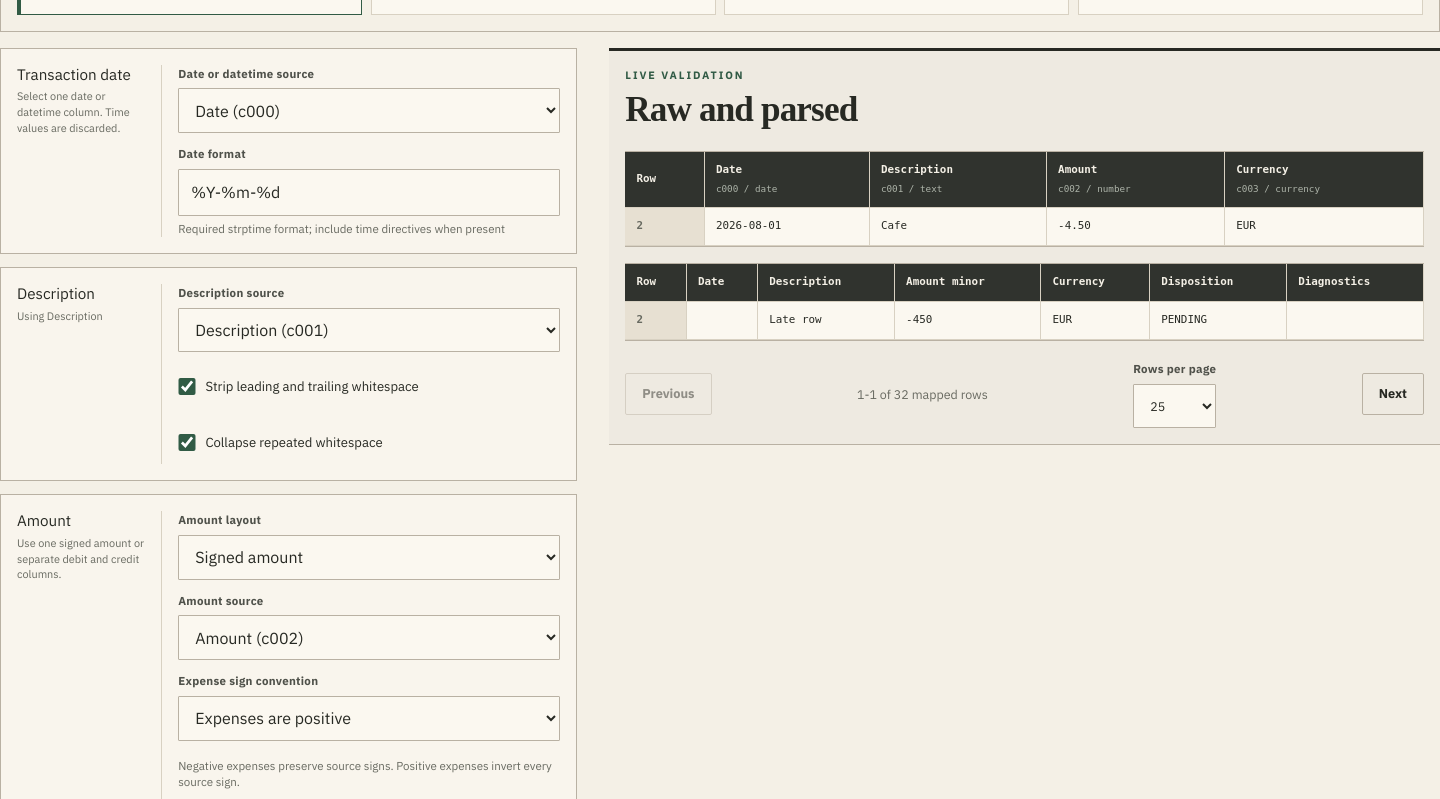
Scenario: ImportWizardPage › pages mapping preview and displays row errors beyond the first 25 rows
(page scrolled)
Click the button "Next".
click(1393, 394)  # box [1362, 373, 1424, 415]
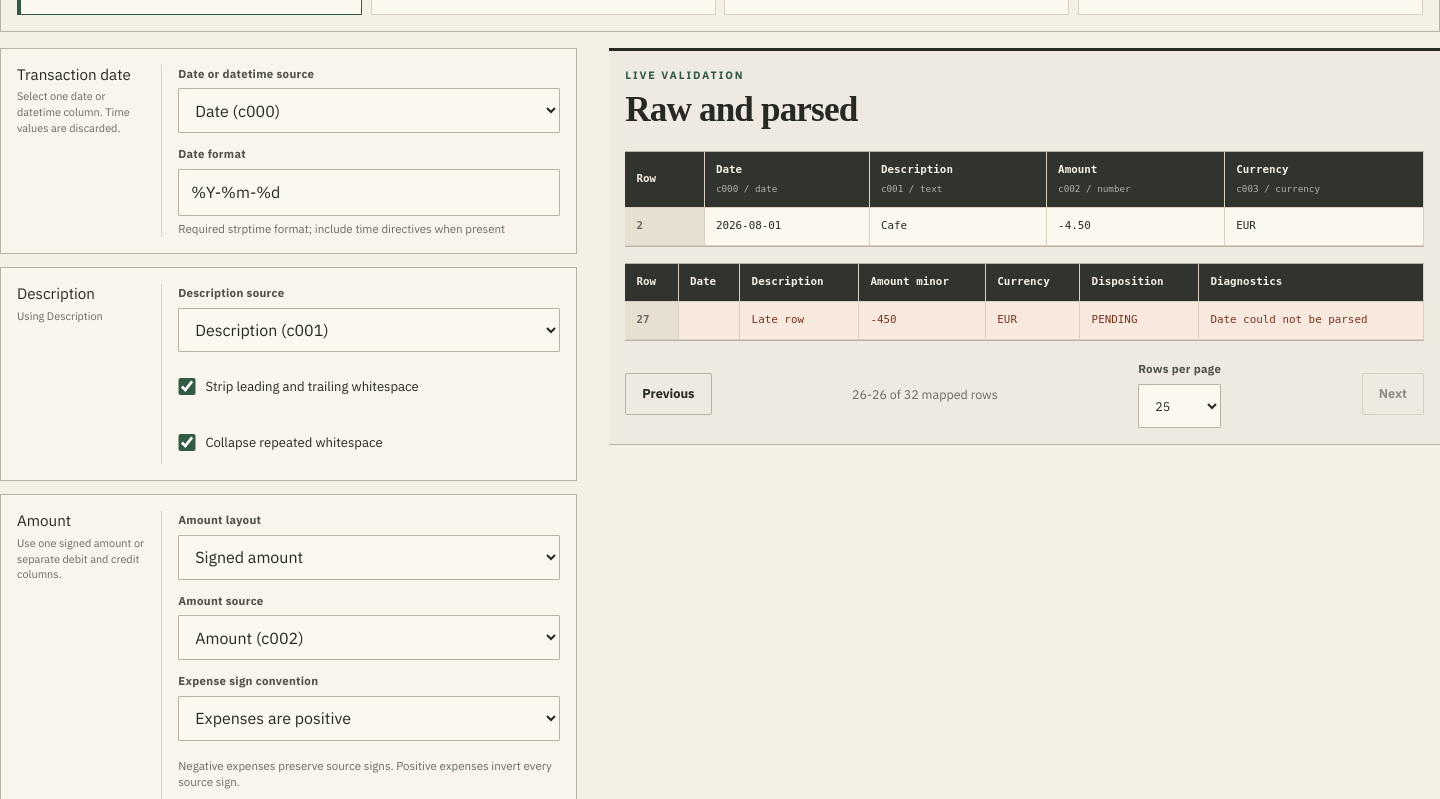
Expected: the text "Date could not be parsed" is shown, [1199, 301, 1424, 340]
